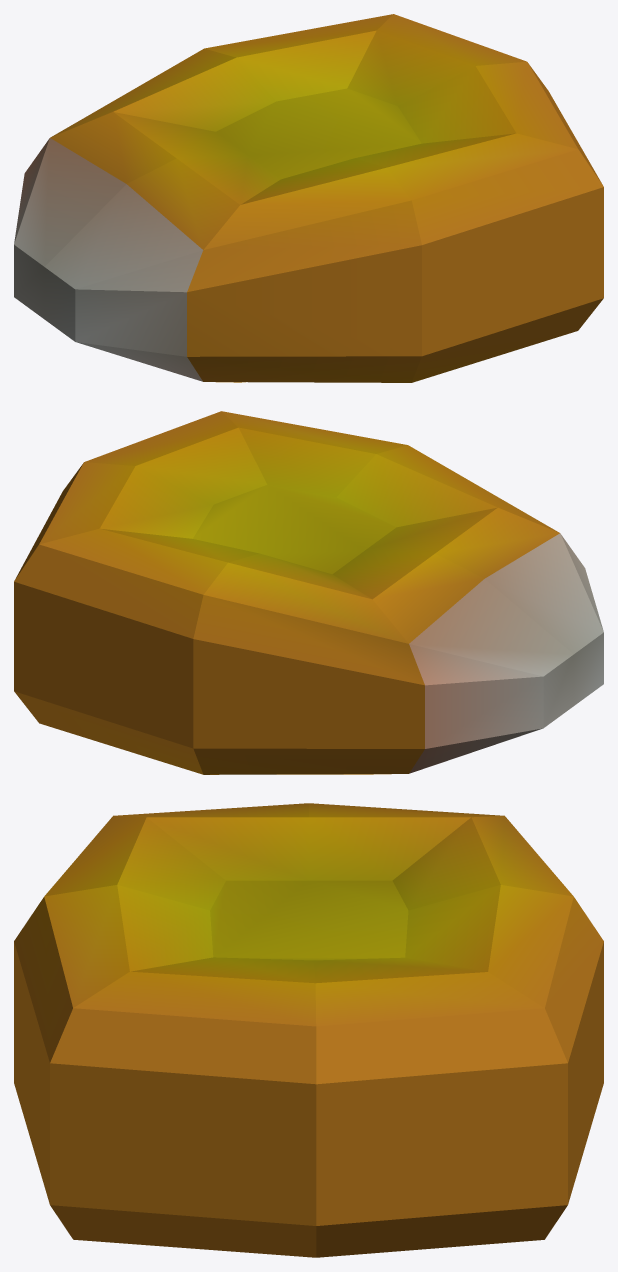
The model's file is project_tile.glb.
3 renders of one model, top to bottom at view 1: azimuth 30°, elevation 25°; view 2: azimuth 150°, elevation 25°; view 3: azimuth 270°, elevation 25°, orthographic. The views are drawn at different scales.
Parts seen in each view (by area): view 1: profectile; view 2: profectile; view 3: profectile.
Boxes of the visible parts, x1=… form: profectile: x1=14, y1=14, x2=603, y2=382; profectile: x1=14, y1=411, x2=603, y2=774; profectile: x1=14, y1=803, x2=603, y2=1257.
Bounding box in the file's own units: 0.1043 × 0.0406 × 0.0817.
